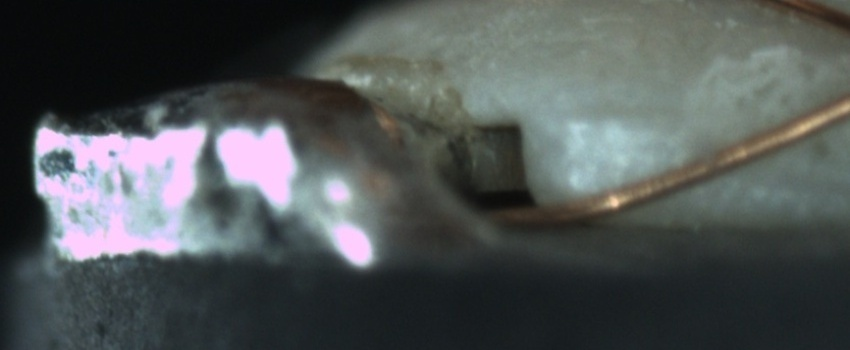DL: (564, 82, 690, 148)
